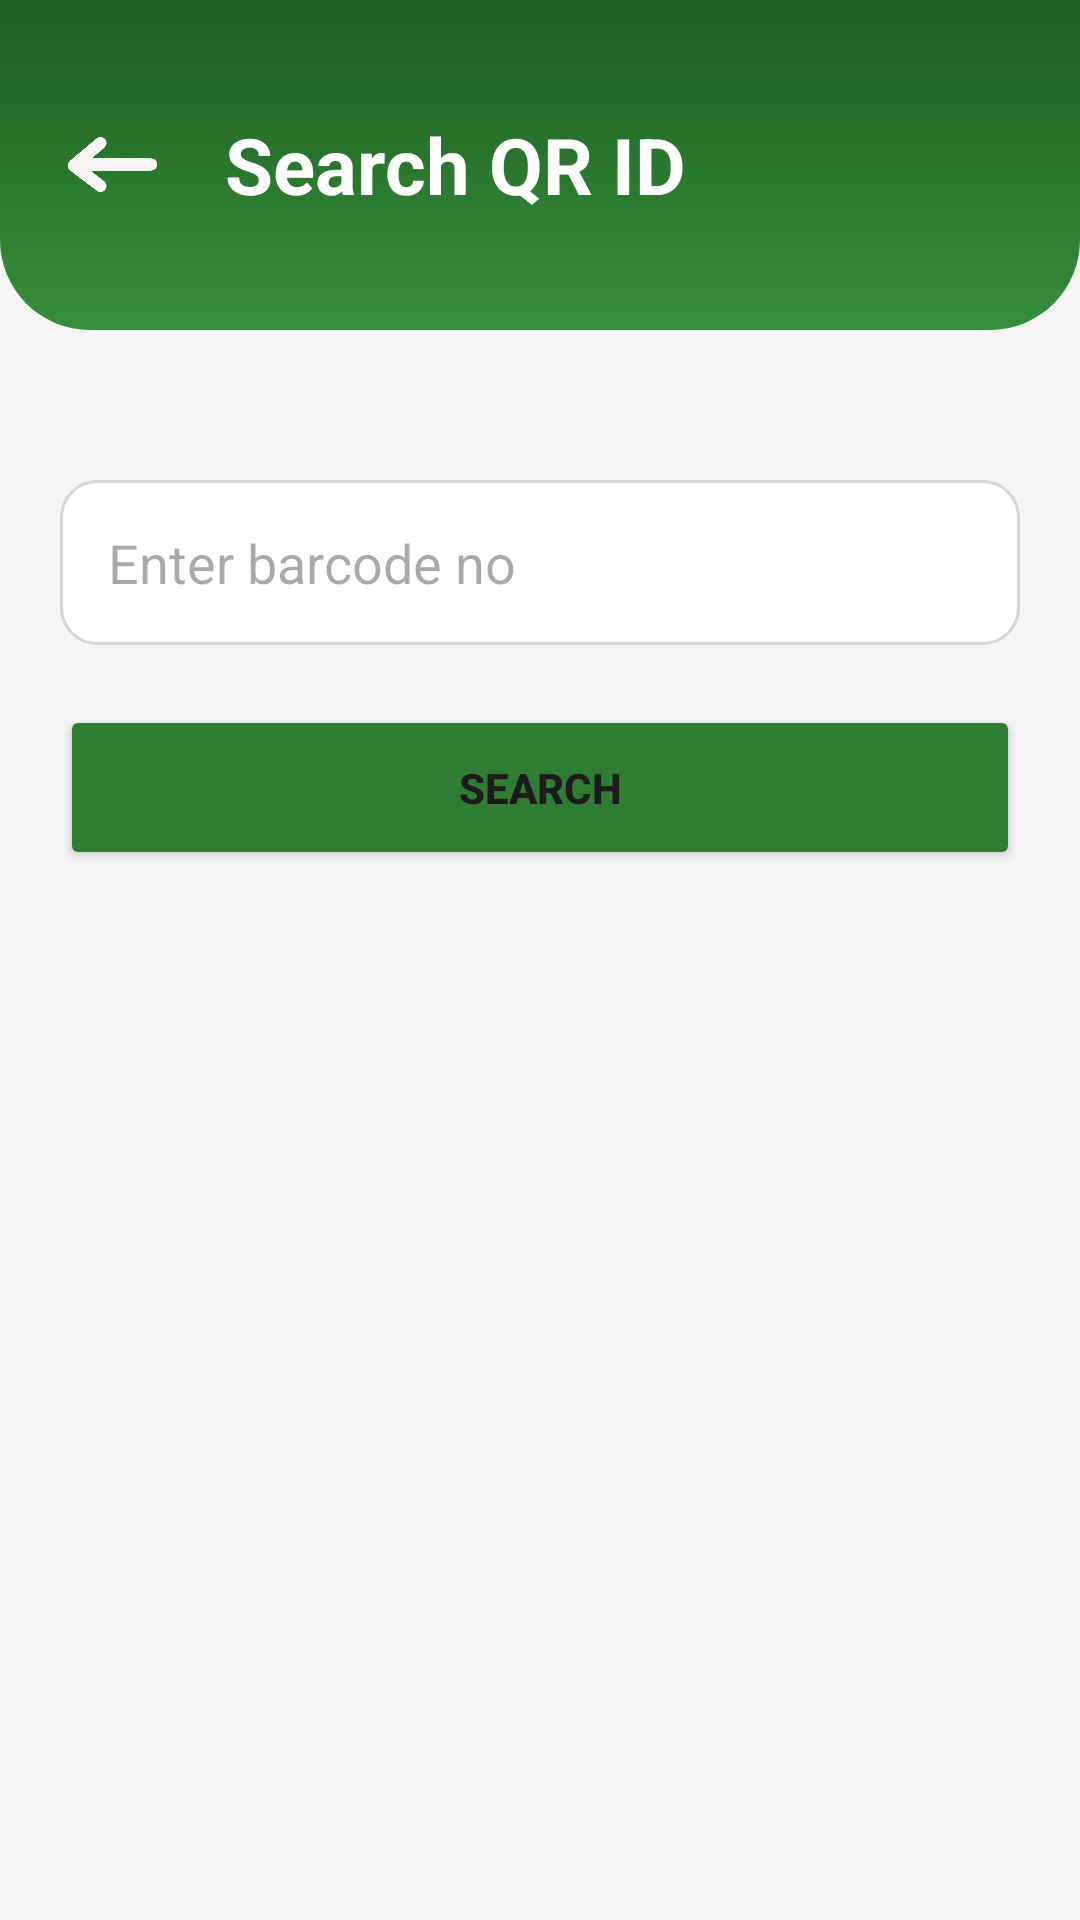

Icon bounding boxes for this 1080*1920 phone screenshot, format [left=x1, top=y1, right=x2, bottom=y2]:
back: [left=60, top=112, right=165, bottom=192]
